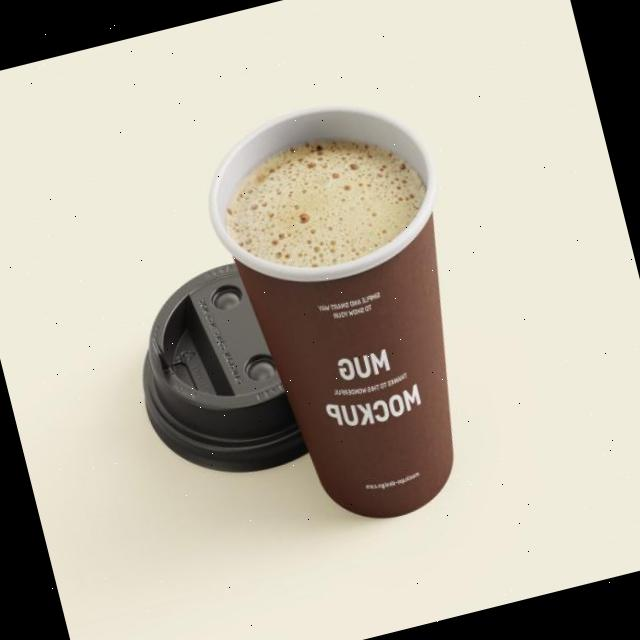trash: (185, 75, 519, 548)
